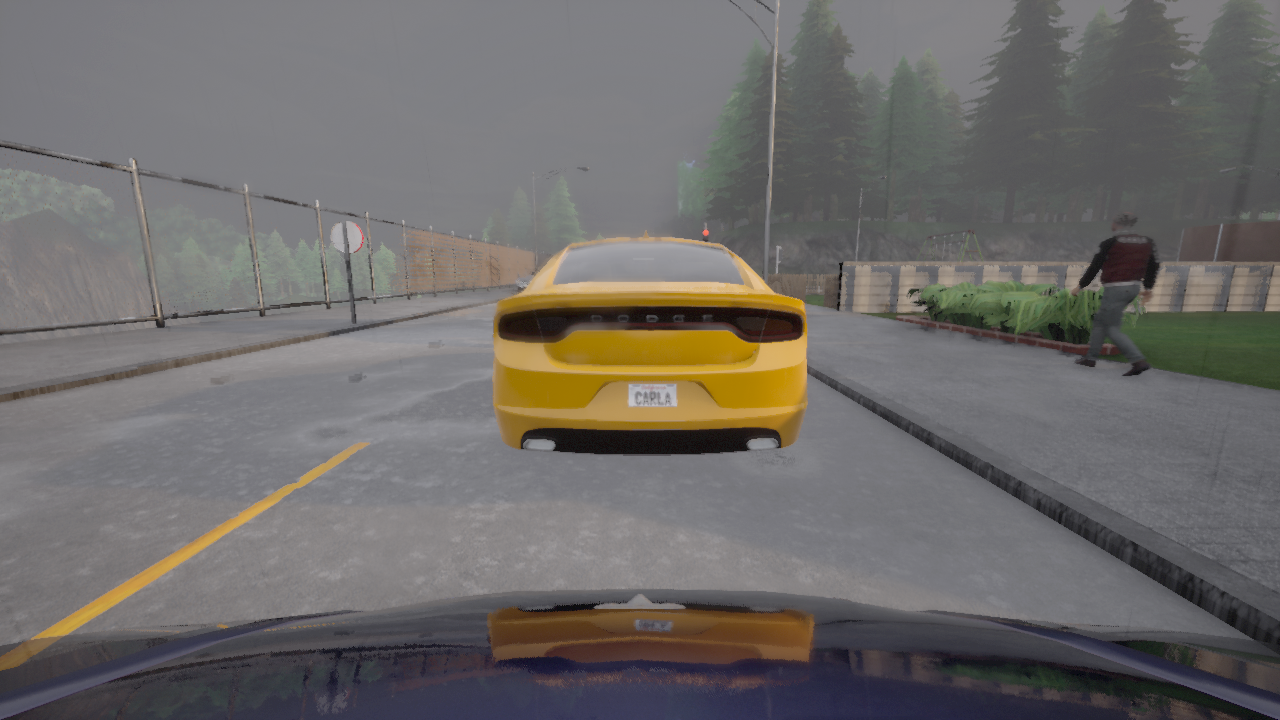cyclist: (0, 588, 1279, 719), (493, 230, 807, 454), (512, 267, 543, 296)
pedestrian: (1070, 210, 1160, 376), (748, 264, 753, 269)
